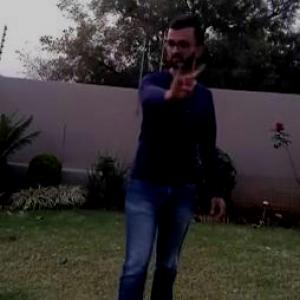takeoff-hand: (165, 55, 208, 104)
